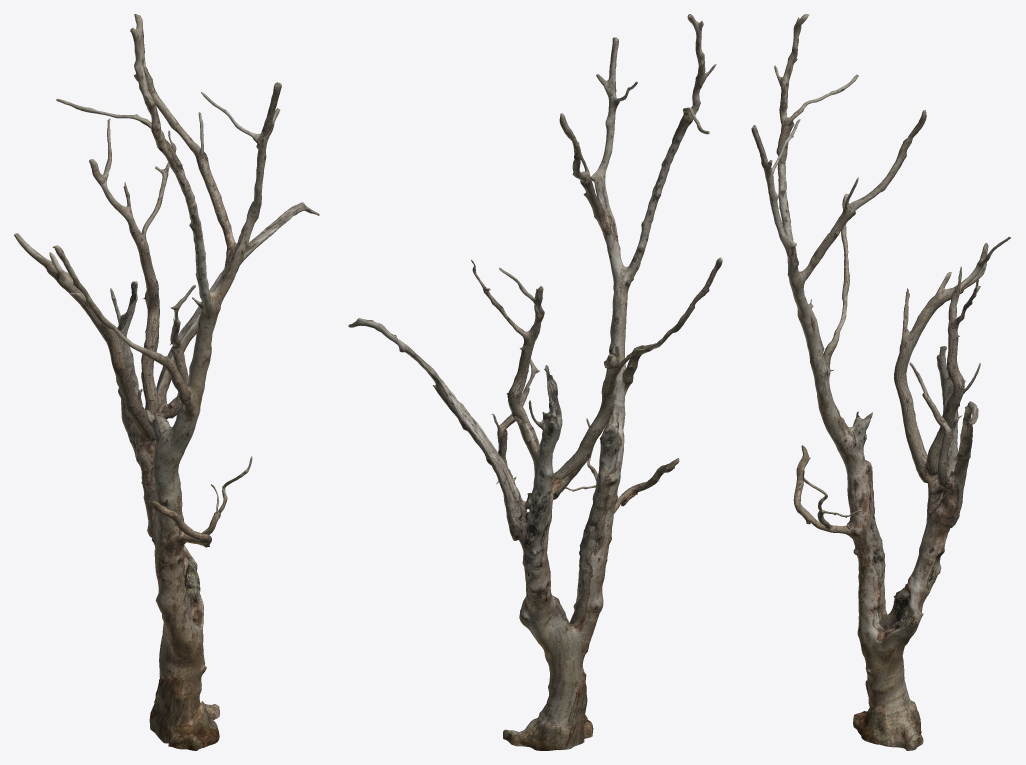
Rendered from DeadTree02.fbx.
3 views of the same model, side by side, from view 1: azimuth 30°, elevation 25°; view 2: azimuth 150°, elevation 25°; view 3: azimuth 270°, elevation 25° (orthographic). The views are drawn at different scales.
Parts seen in each view (by area): view 1: Obj3d66-598285-3-138; view 2: Obj3d66-598285-3-138; view 3: Obj3d66-598285-3-138.
Part boxes in pixels (x1,y1,x2,y2): Obj3d66-598285-3-138: (14, 14, 319, 750); Obj3d66-598285-3-138: (348, 14, 722, 750); Obj3d66-598285-3-138: (751, 14, 1010, 750).
Size of the model in its own units: 281 by 622 by 216.
